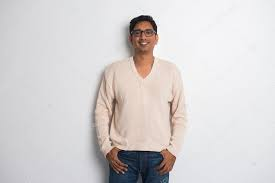Indian_Male: (125, 21, 160, 55)
